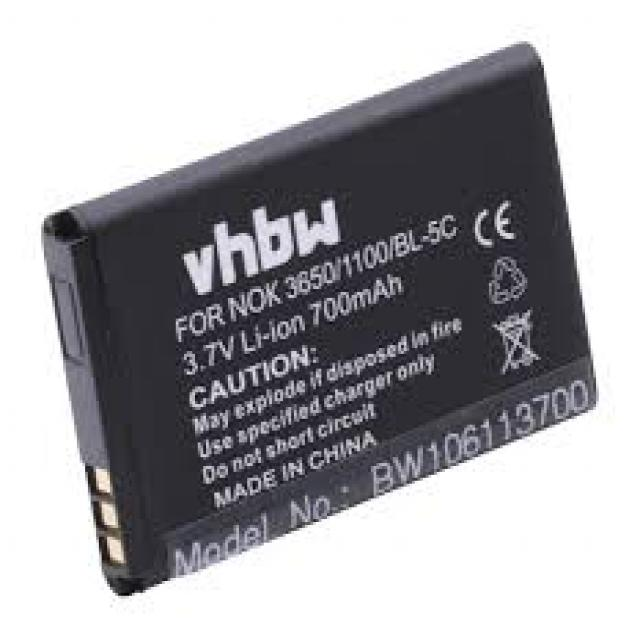non-organic waste: (42, 38, 600, 596)
